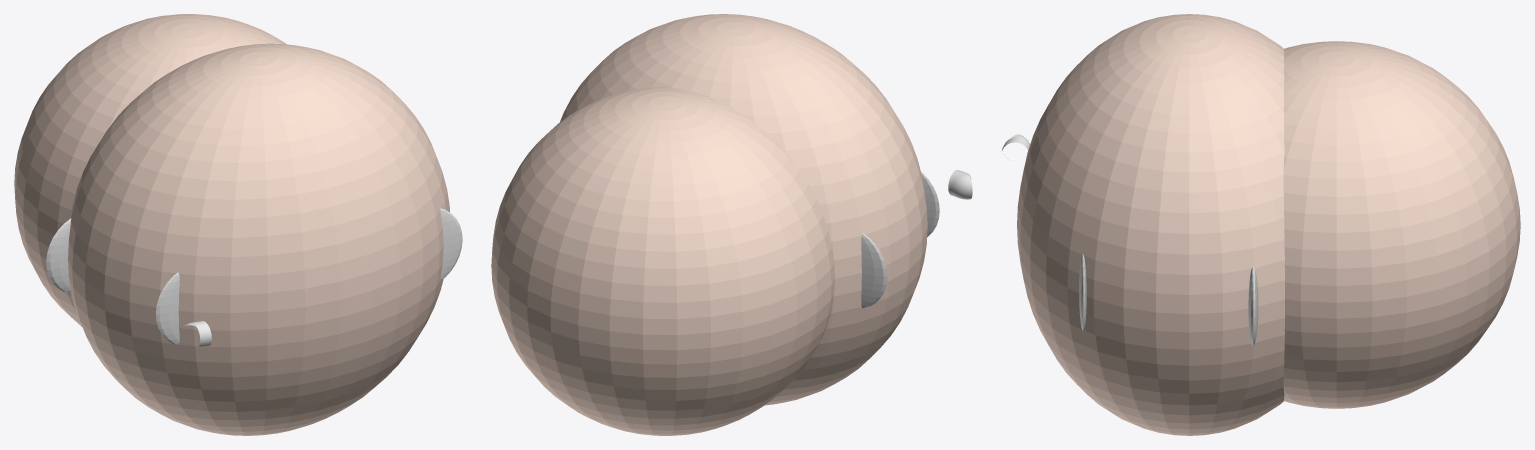
File: fetus_week_32.glb
3 views of the same model, side by side, from view 1: azimuth 30°, elevation 25°; view 2: azimuth 150°, elevation 25°; view 3: azimuth 270°, elevation 25° (orthographic). The views are drawn at different scales.
Visible parts, largest first — view 1: fetal_body_w32, fetal_head_w32, leg_-1_w32, arm_-1_w32, leg_1_w32; view 2: fetal_head_w32, fetal_body_w32, arm_-1_w32, leg_-1_w32, BézierCurve; view 3: fetal_body_w32, fetal_head_w32, arm_1_w32, leg_1_w32.
Part boxes in pixels (x1,y1,x2,y2): fetal_body_w32: (68, 43, 449, 435); fetal_head_w32: (14, 14, 286, 326); leg_-1_w32: (155, 272, 179, 344); arm_-1_w32: (46, 218, 71, 293); leg_1_w32: (440, 208, 462, 280); fetal_head_w32: (491, 87, 834, 435); fetal_body_w32: (560, 14, 927, 405); arm_-1_w32: (861, 233, 887, 308); leg_-1_w32: (921, 172, 939, 236); BézierCurve: (948, 170, 972, 199); fetal_body_w32: (1017, 14, 1285, 435); fetal_head_w32: (1283, 41, 1520, 408); arm_1_w32: (1248, 266, 1258, 345); leg_1_w32: (1079, 254, 1086, 330).
Size of the model in its own units: 0.254 by 0.2424 by 0.2981.
